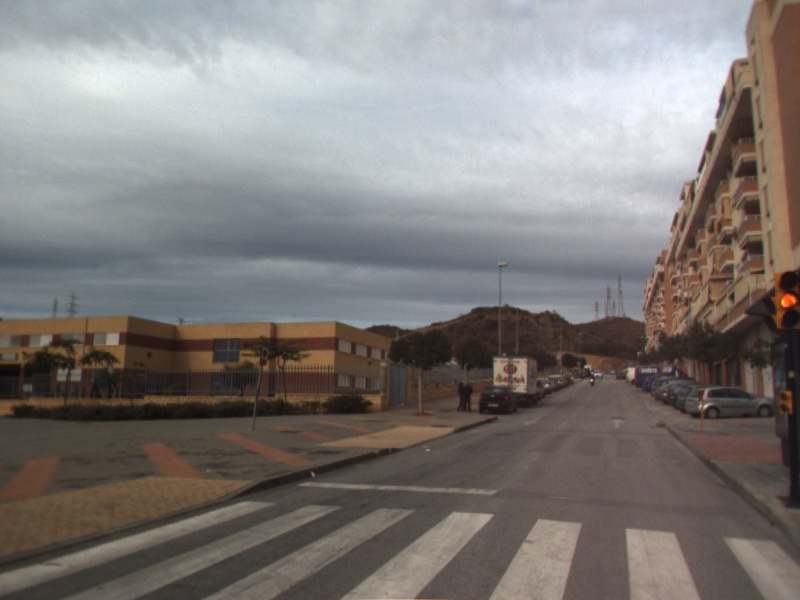STRAIGHT: (607, 417, 628, 430)
